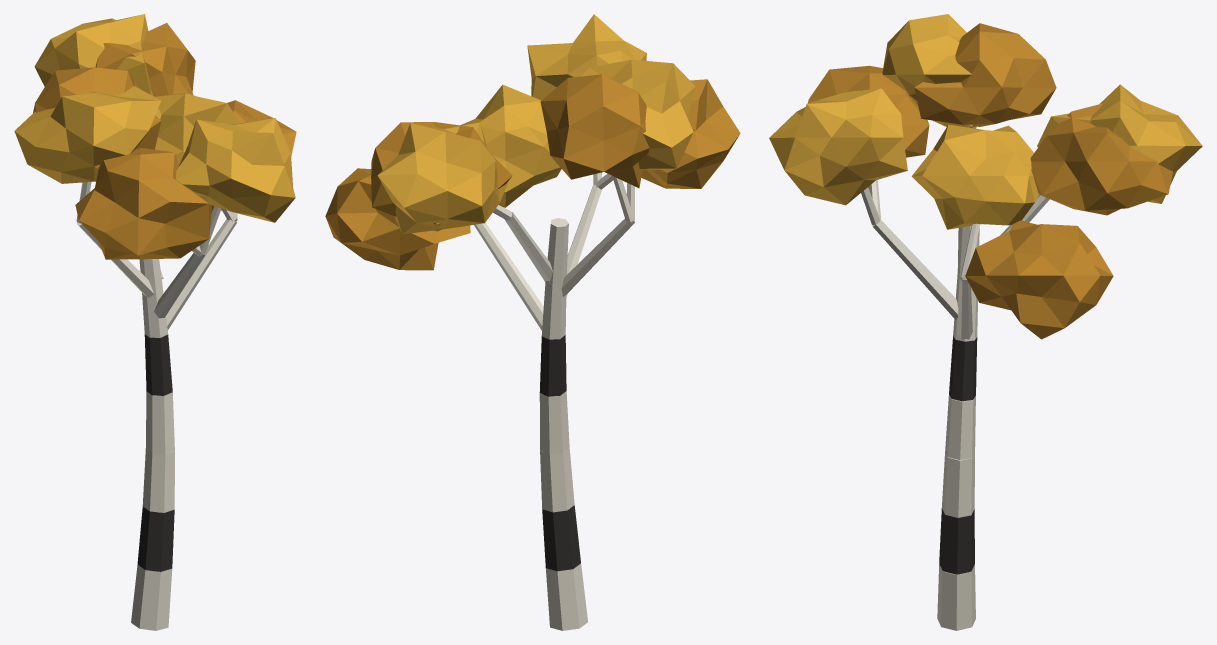
The model's file is TU_Tree_DwarfBirch.obj.
3 views of the same model, side by side, from view 1: azimuth 30°, elevation 25°; view 2: azimuth 150°, elevation 25°; view 3: azimuth 270°, elevation 25° (orthographic).
Parts seen in each view (by area): view 1: leaves_2, leaves_3, leaves_5, leaves_7, leaves_6, leaves_1, leaves_4, trunk_0, trunk_1, trunk_2, trunk_3, trunk_4 (+6 smaller); view 2: leaves_7, leaves_4, leaves_0, leaves_5, leaves_1, leaves_2, leaves_3, leaves_6, trunk_0, trunk_1, trunk_2, trunk_3 (+7 smaller); view 3: leaves_0, leaves_3, leaves_1, leaves_6, leaves_4, leaves_7, leaves_5, leaves_2, trunk_0, trunk_1, trunk_2, trunk_3 (+3 smaller).
Part boxes in pixels (x1,y1,x2,y2): leaves_2: (75, 148, 211, 259); leaves_3: (176, 118, 295, 222); leaves_5: (14, 86, 160, 183); leaves_7: (34, 14, 152, 95); leaves_6: (95, 23, 195, 96); leaves_1: (154, 93, 239, 164); leaves_4: (33, 67, 161, 149); trunk_0: (131, 565, 172, 630); trunk_1: (137, 507, 174, 571); trunk_2: (142, 449, 174, 512); trunk_3: (146, 391, 174, 454); trunk_4: (144, 334, 172, 395); leaves_7: (377, 122, 509, 234); leaves_4: (540, 74, 649, 188); leaves_0: (325, 168, 470, 270); leaves_5: (581, 59, 695, 169); leaves_1: (460, 84, 561, 207); leaves_2: (641, 79, 740, 188); leaves_3: (527, 14, 646, 100); leaves_6: (371, 122, 512, 231); trunk_0: (545, 563, 587, 630); trunk_1: (542, 505, 580, 571); trunk_2: (540, 448, 574, 512); trunk_3: (539, 391, 569, 454); leaves_0: (965, 220, 1113, 339); leaves_3: (769, 88, 907, 205); leaves_1: (911, 124, 1038, 229); leaves_6: (1030, 103, 1172, 215); leaves_4: (914, 23, 1056, 126); leaves_7: (1037, 84, 1202, 203); leaves_5: (882, 14, 975, 127); leaves_2: (807, 65, 929, 189); trunk_0: (937, 564, 975, 630); trunk_1: (939, 508, 974, 574); trunk_2: (942, 452, 974, 517); trunk_3: (945, 395, 975, 459).
Size of the model in its own units: 7.03 by 12.66 by 8.75.
